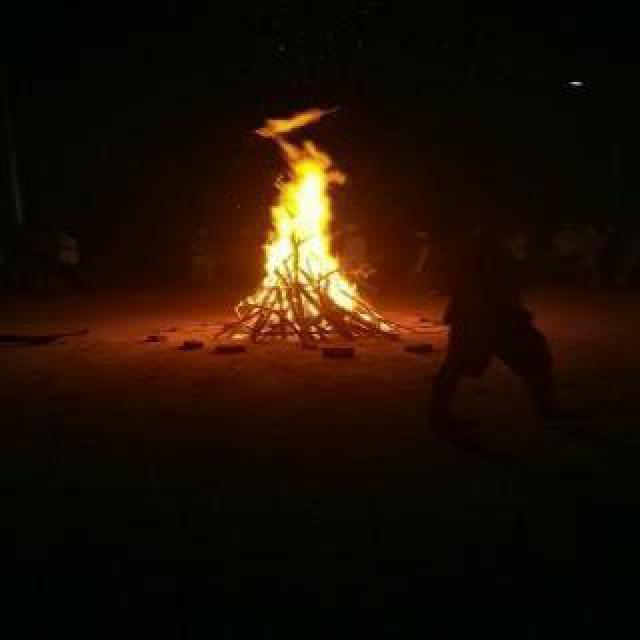Fire: (242, 110, 378, 330)
